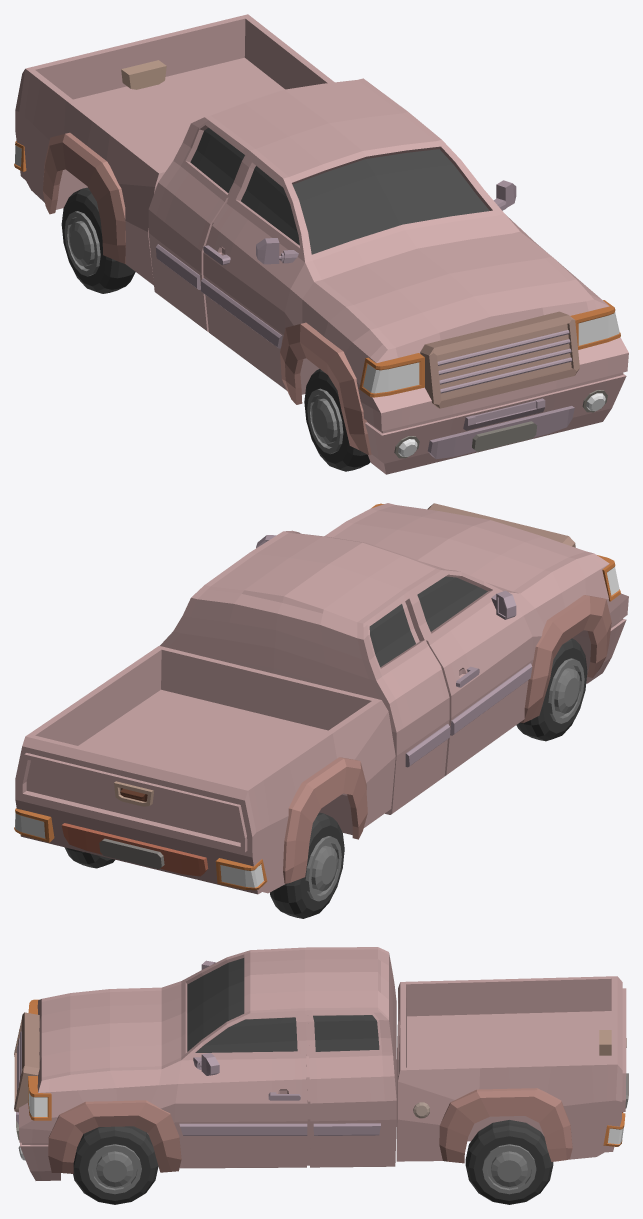
The model's file is bilun - 4by4 car.fbx.
The picture shows the model from 3 angles, top to bottom: view 1: azimuth 30°, elevation 25°; view 2: azimuth 150°, elevation 25°; view 3: azimuth 270°, elevation 25°; orthographic projection. The views are drawn at different scales.
Visible parts, largest first — view 1: main body, front bumper, back tire cover, front tire cover, front light, front bumper grill, back tire, front second bumper, sidebar, front tire, back rim, front rim (+5 smaller); view 2: main body, back tire cover, front tire cover, back tire, back light, front second bumper.001, sidebar, front tire, back rim, front rim, front plate number.001, front bumper (+2 smaller); view 3: main body, back tire cover, front tire cover, back tire, front tire, sidebar, back rim, front rim, front bumper, front light, side mirror, back light.
Boxes of the visible parts, <box> form: main body: <box>15,14,628,474</box>; front bumper: <box>420,311,579,408</box>; back tire cover: <box>42,132,125,263</box>; front tire cover: <box>280,322,371,455</box>; front light: <box>359,300,620,397</box>; front bumper grill: <box>437,330,572,393</box>; back tire: <box>61,187,135,293</box>; front second bumper: <box>427,406,574,459</box>; sidebar: <box>155,244,282,348</box>; front tire: <box>304,369,370,471</box>; back rim: <box>64,211,100,276</box>; front rim: <box>307,388,343,454</box>; main body: <box>15,503,628,894</box>; back tire cover: <box>283,757,367,883</box>; front tire cover: <box>520,595,611,723</box>; back tire: <box>64,812,344,918</box>; back light: <box>14,808,267,890</box>; front second bumper.001: <box>61,823,208,876</box>; sidebar: <box>405,663,532,767</box>; front tire: <box>516,638,587,741</box>; back rim: <box>305,836,341,901</box>; front rim: <box>548,658,584,723</box>; front plate number.001: <box>99,838,164,869</box>; front bumper: <box>427,503,575,547</box>; main body: <box>19,947,626,1180</box>; back tire cover: <box>439,1088,572,1163</box>; front tire cover: <box>48,1100,181,1173</box>; back tire: <box>465,1120,553,1204</box>; front tire: <box>73,1126,158,1204</box>; sidebar: <box>179,1123,380,1135</box>; back rim: <box>482,1144,536,1194</box>; front rim: <box>88,1144,141,1194</box>; front bumper: <box>14,1012,39,1112</box>; front light: <box>28,999,51,1120</box>; side mirror: <box>193,960,219,1075</box>; back light: <box>603,1113,625,1146</box>.
Bounding box in the file's own units: 192 × 163 × 478.
